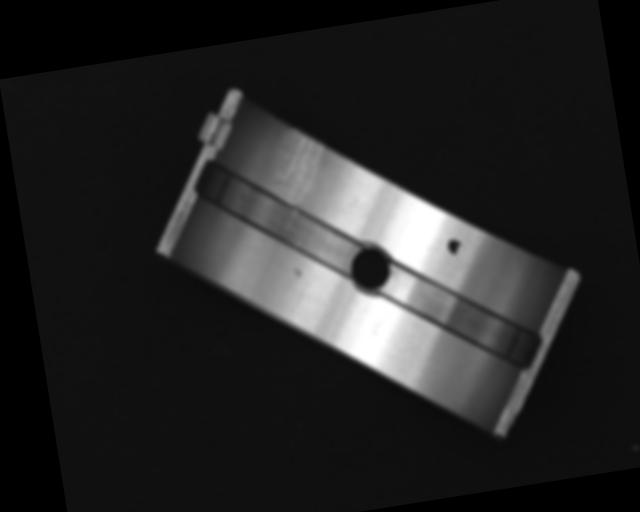blot: (445, 236, 463, 256)
bruise: (291, 267, 303, 278)
gap: (191, 138, 364, 291), (377, 245, 545, 389)
hole: (346, 243, 394, 296)
scratch: (264, 124, 333, 214)
